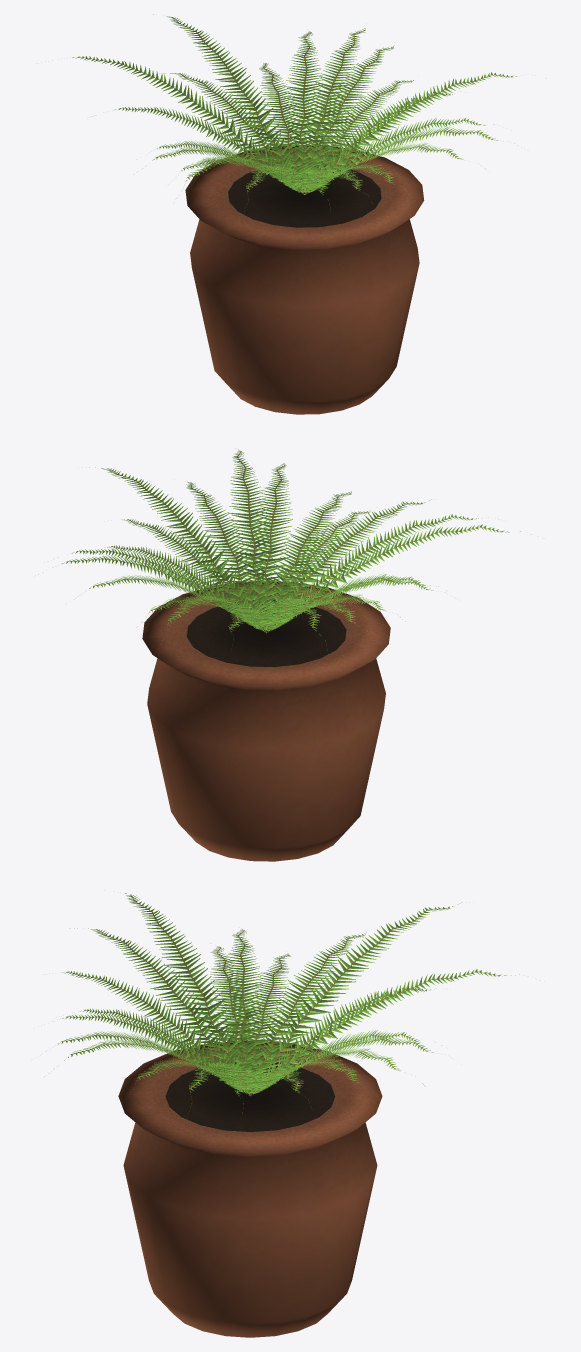
Rendered from deco_vaso_samambaia.glb.
3 views of the same model, one above another, from view 1: azimuth 30°, elevation 25°; view 2: azimuth 150°, elevation 25°; view 3: azimuth 270°, elevation 25° (orthographic). The views are drawn at different scales.
Parts seen in each view (by area): view 1: deco_vaso_samambaia_tronco, samambaia; view 2: deco_vaso_samambaia_tronco, samambaia; view 3: deco_vaso_samambaia_tronco, samambaia.
Part boxes in pixels (bbox=[...]): deco_vaso_samambaia_tronco: bbox=[185, 145, 424, 414]; samambaia: bbox=[72, 14, 517, 209]; deco_vaso_samambaia_tronco: bbox=[142, 581, 390, 861]; samambaia: bbox=[38, 449, 520, 654]; deco_vaso_samambaia_tronco: bbox=[118, 1040, 382, 1337]; samambaia: bbox=[44, 893, 519, 1113].
Bounding box in the file's own units: 1.12 × 0.707 × 1.09.
2 materials, 2 textured.
